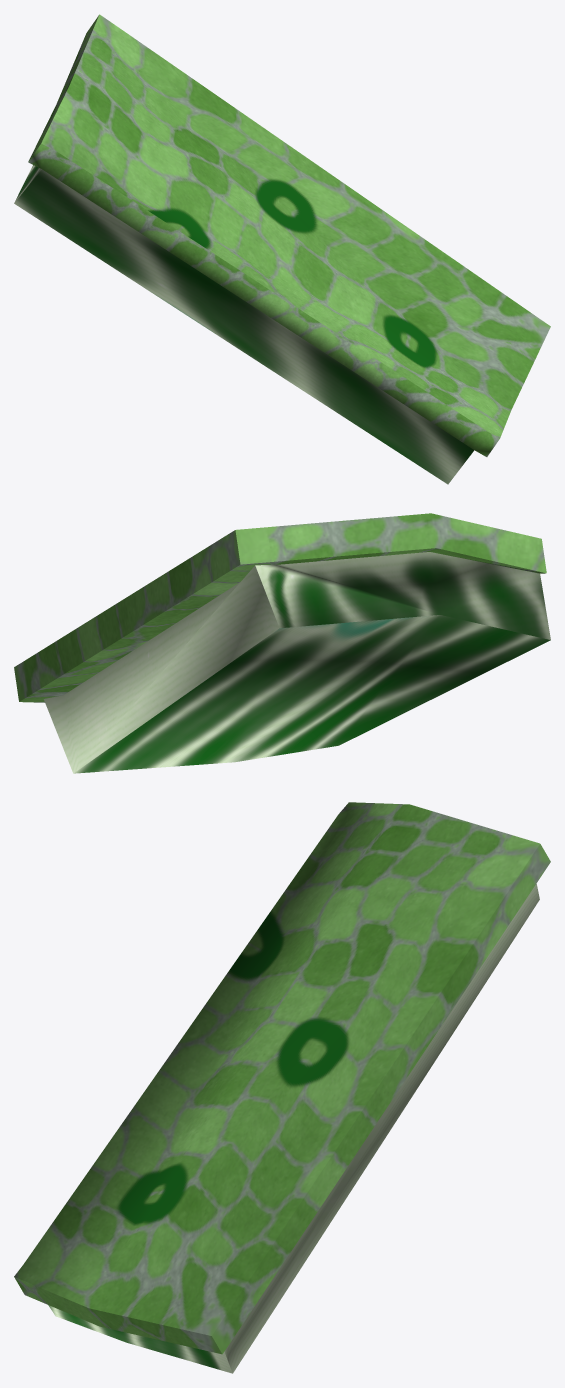
Rendered from Epidermis_Atas.fbx.
3 views of the same model, one above another, from view 1: azimuth 30°, elevation 25°; view 2: azimuth 150°, elevation 25°; view 3: azimuth 270°, elevation 25° (orthographic). The views are drawn at different scales.
Parts seen in each view (by area): view 1: Epidermis_Atas; view 2: Epidermis_Atas; view 3: Epidermis_Atas.
Boxes of the visible parts, left/top/right/bottom form: Epidermis_Atas: left=14, top=14, right=550, bottom=484; Epidermis_Atas: left=14, top=513, right=550, bottom=773; Epidermis_Atas: left=14, top=802, right=550, bottom=1373.
Bounding box in the file's own units: 114 × 81.34 × 99.51.
